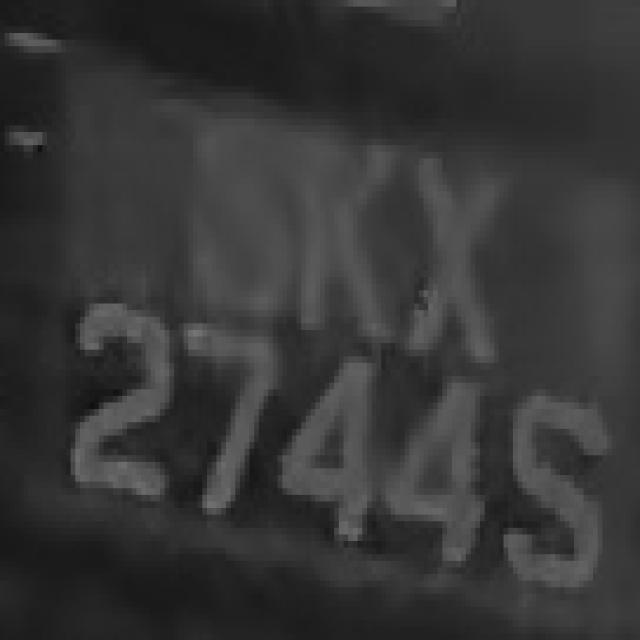2: (66, 251, 169, 528)
4: (259, 323, 386, 568), (372, 363, 484, 613)
7: (178, 264, 278, 534)
K: (273, 79, 381, 356)
S: (504, 356, 621, 634), (170, 86, 282, 303)
X: (391, 112, 504, 383)
